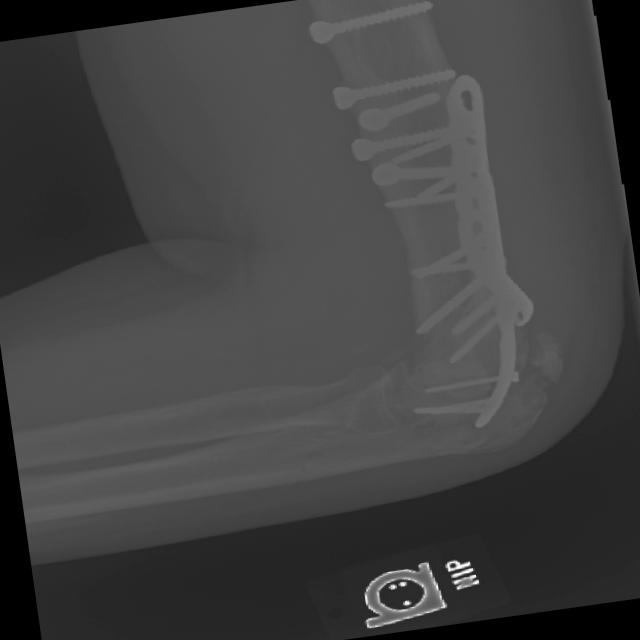elbow positive: (493, 292, 597, 423)
